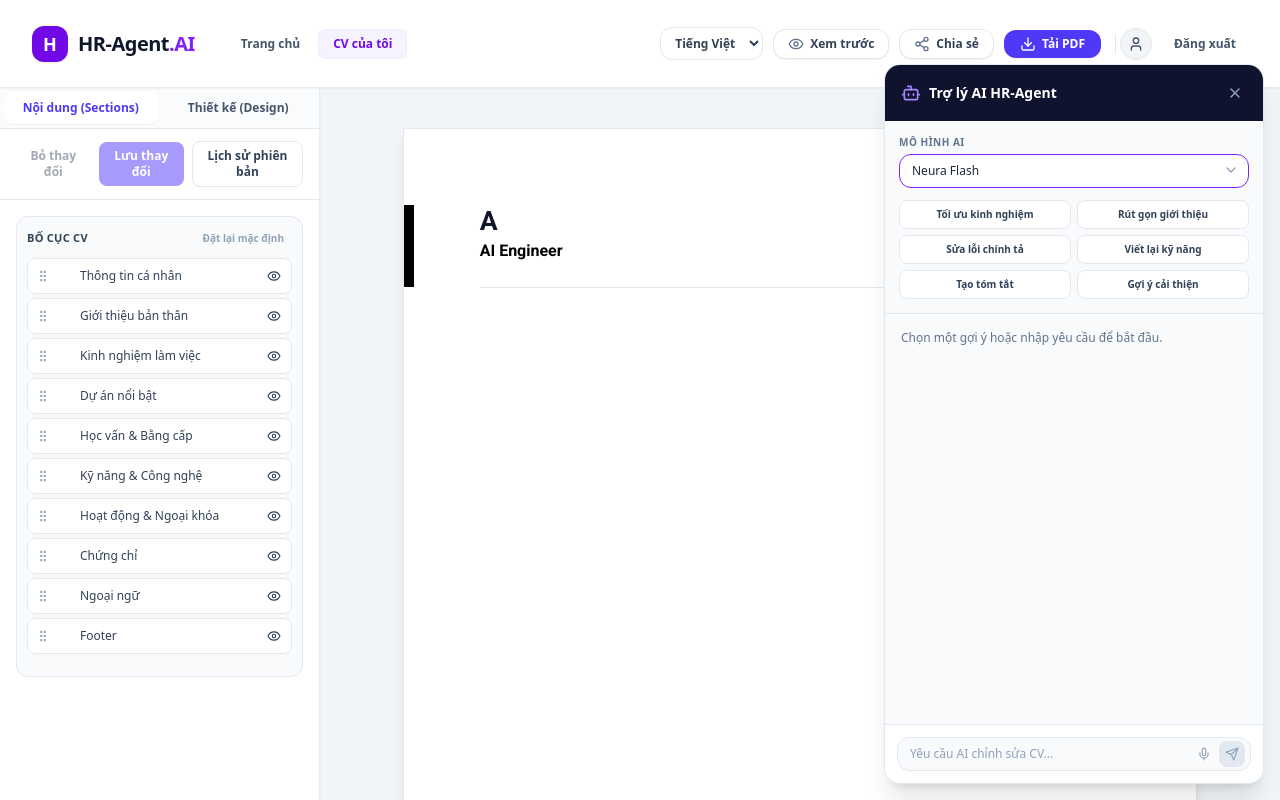
nút "Xem trước" trên header trình sửa › đóng popup trả lại trình sửa nguyên trạng
This screenshot has width=1280, height=800.
Click the button "Xem trước": (831, 44) top-left (773, 28), bottom-right (889, 58)
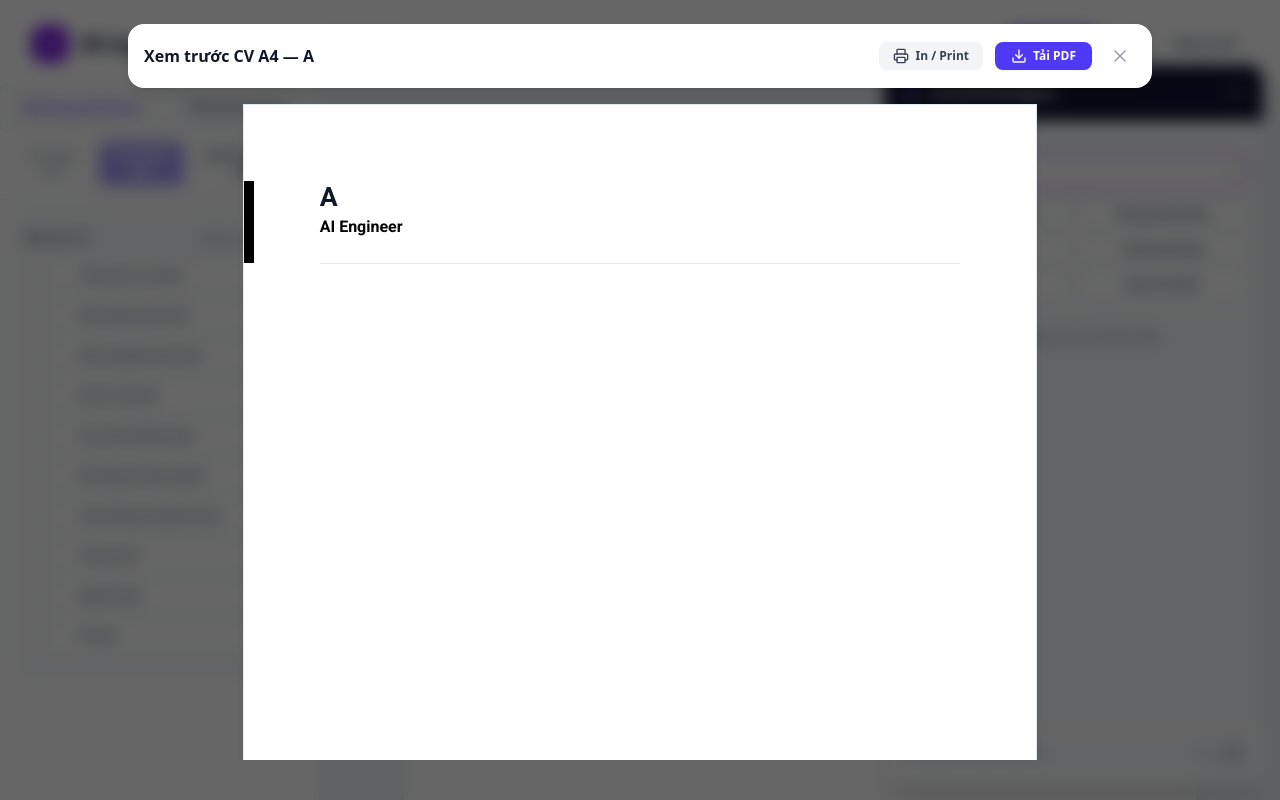
Click the button named "đóng xem trước": (1120, 56) top-left (1104, 40), bottom-right (1136, 72)
(page scrolled)
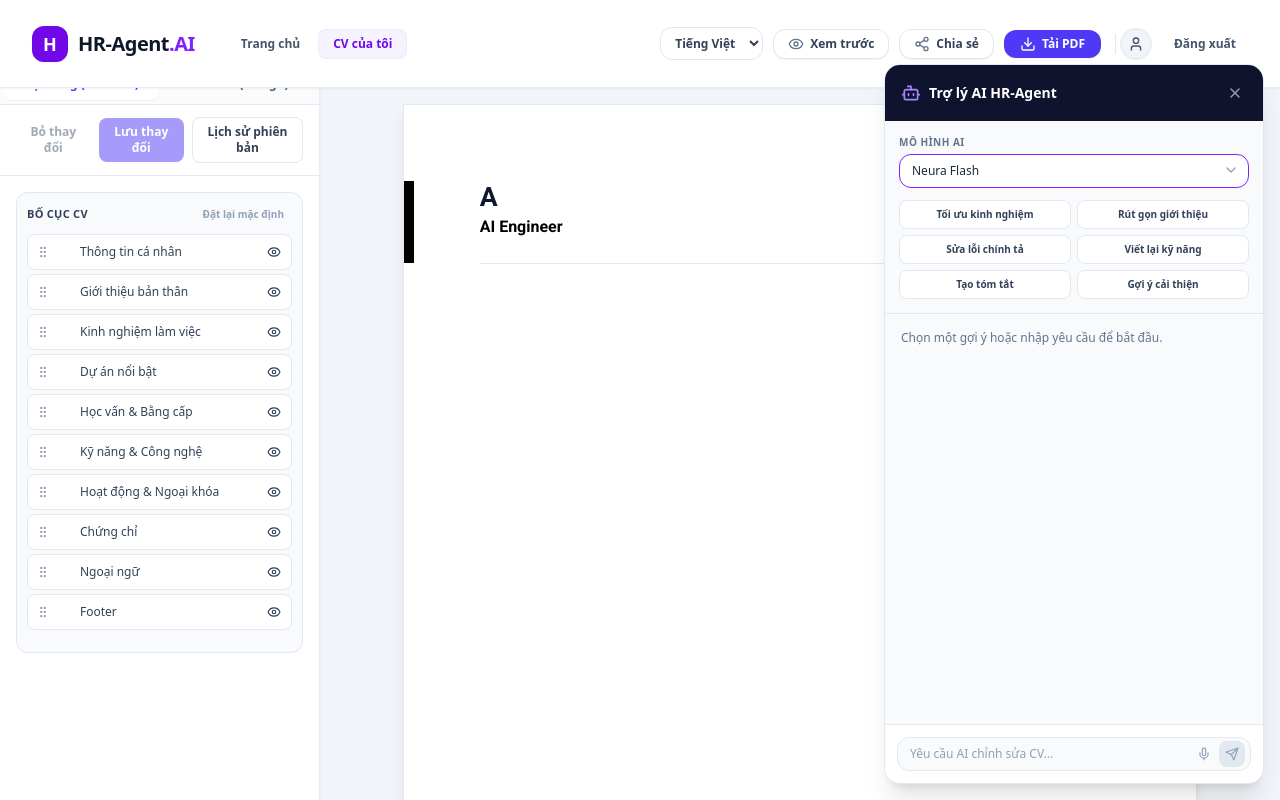
Now the heading "Xem trước CV" is gone
